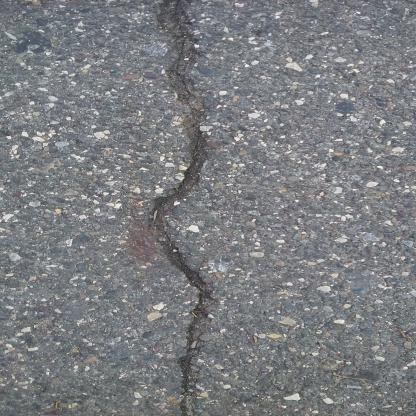Cracks: (136, 0, 248, 415)
